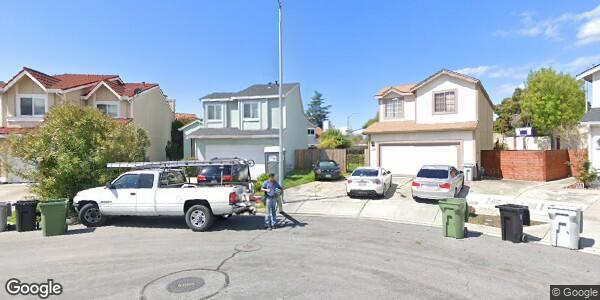Steel_Pole: (271, 1, 289, 212)
